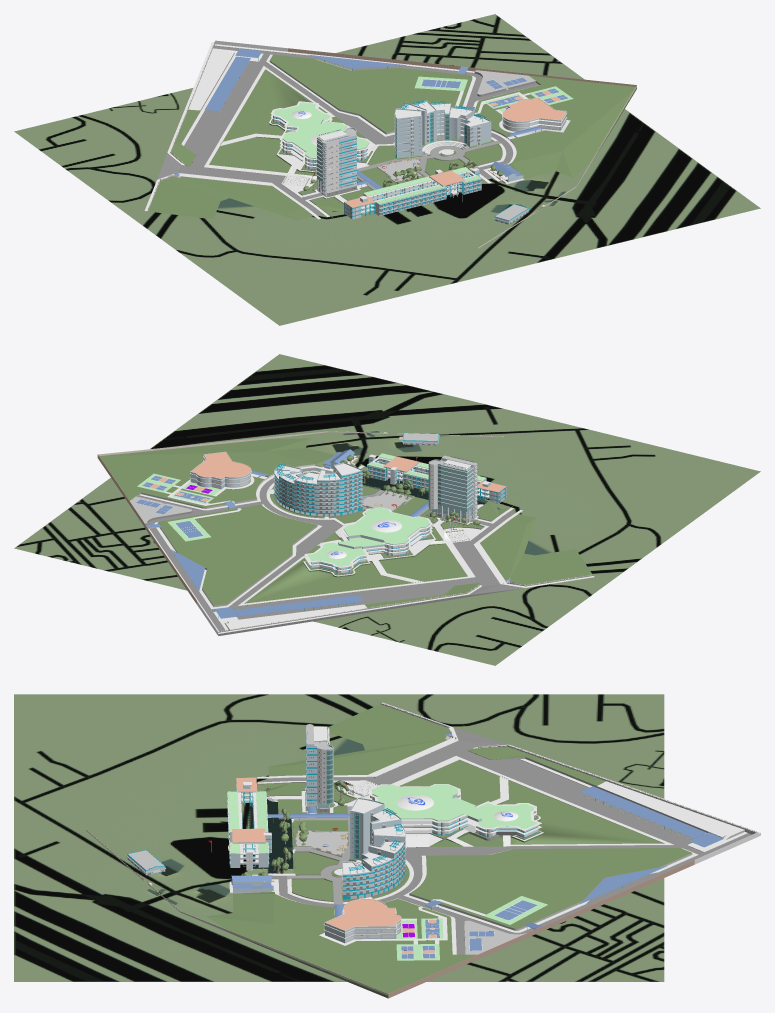
The model's file is uit_myuit_nguyen.glb.
3 views of the same model, one above another, from view 1: azimuth 30°, elevation 25°; view 2: azimuth 150°, elevation 25°; view 3: azimuth 270°, elevation 25° (orthographic). The views are drawn at different scales.
Visible parts, largest first — view 1: GND_Base, map; view 2: GND_Base, map; view 3: GND_Base, map.
Part boxes in pixels (bbox=[...]): GND_Base: bbox=[14, 14, 760, 325]; map: bbox=[144, 40, 636, 248]; GND_Base: bbox=[14, 354, 760, 665]; map: bbox=[97, 431, 594, 635]; GND_Base: bbox=[14, 694, 664, 981]; map: bbox=[86, 702, 760, 998].
Size of the model in its own units: 477 by 51.57 by 494.
Materials: 25 (2 with a texture image).
